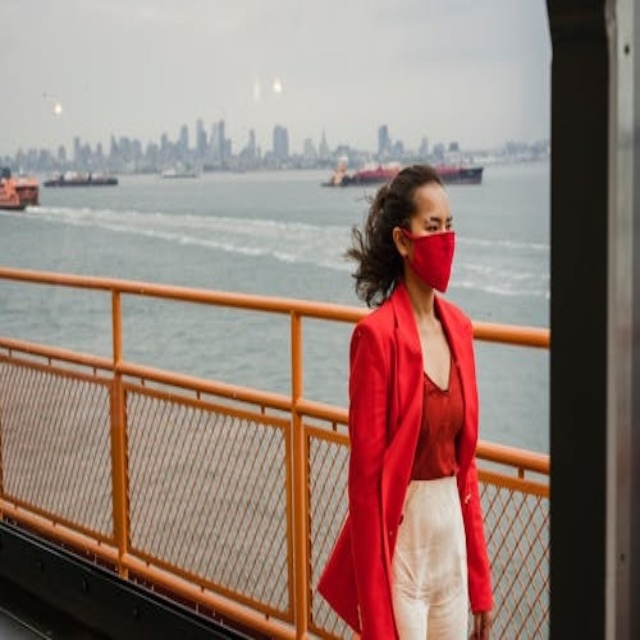Mascara: (398, 229, 455, 292)
Sin_gafas: (446, 217, 454, 229), (426, 225, 438, 232)
